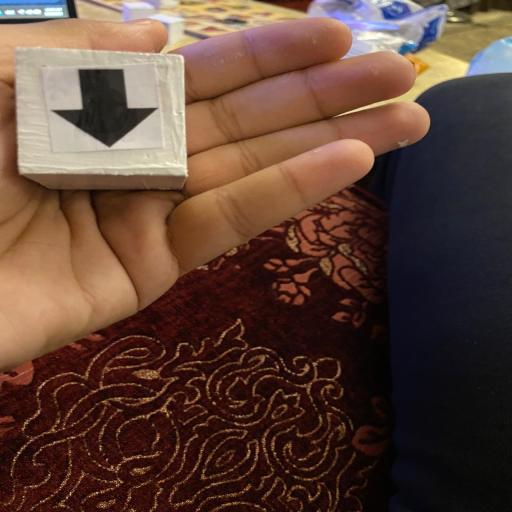Down: (11, 44, 193, 191)
